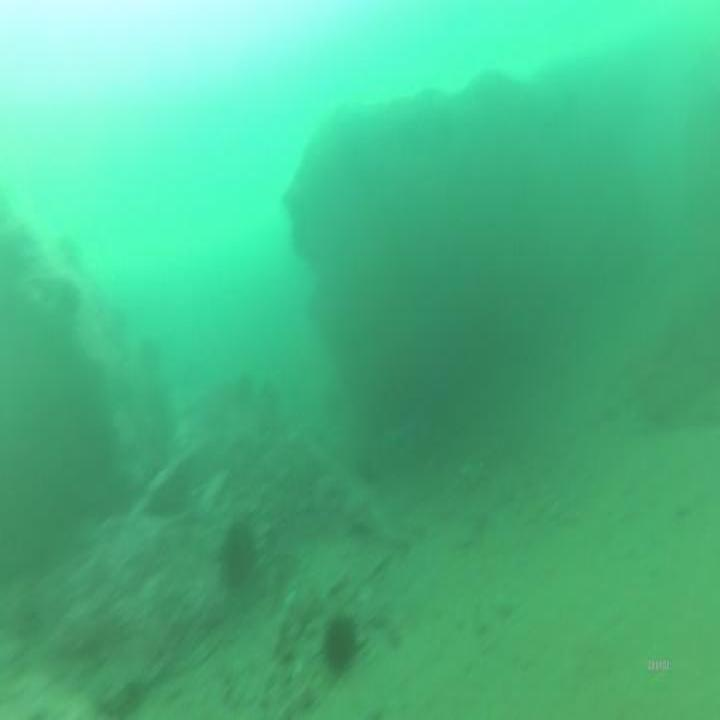echinus: (315, 601, 363, 679), (216, 512, 261, 594)
